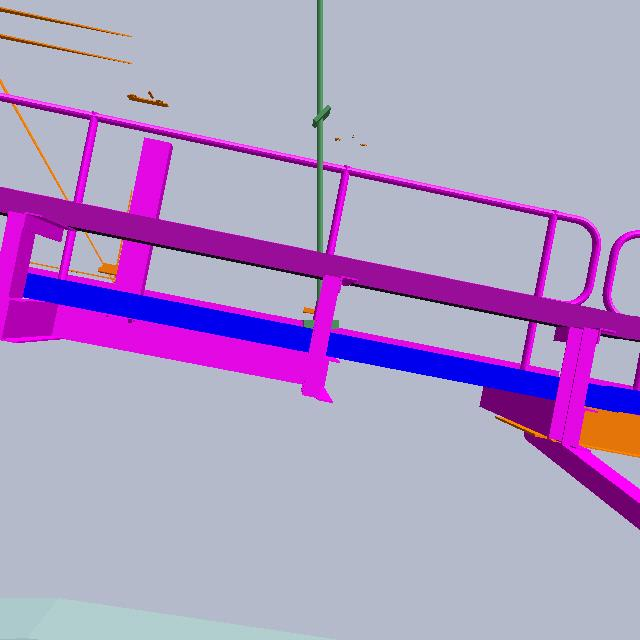Poste: (316, 1, 325, 336)
Soporte: (106, 133, 179, 321)
